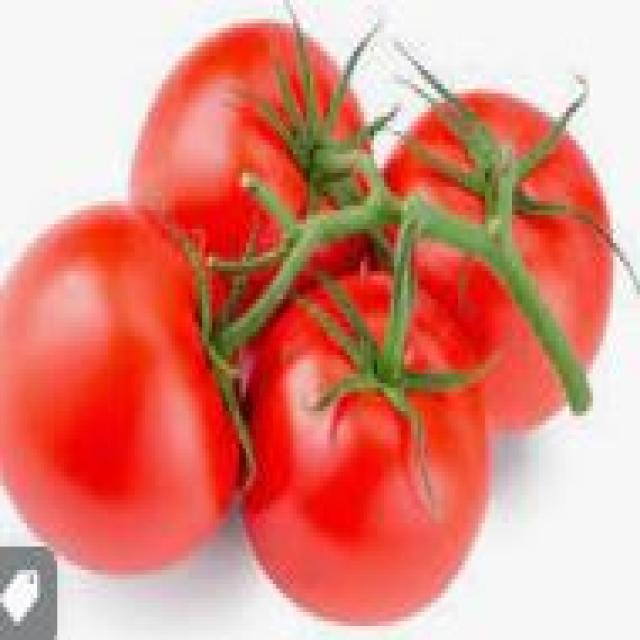Healthy: (228, 242, 496, 614), (5, 154, 241, 571), (387, 51, 621, 442), (126, 28, 396, 311)
